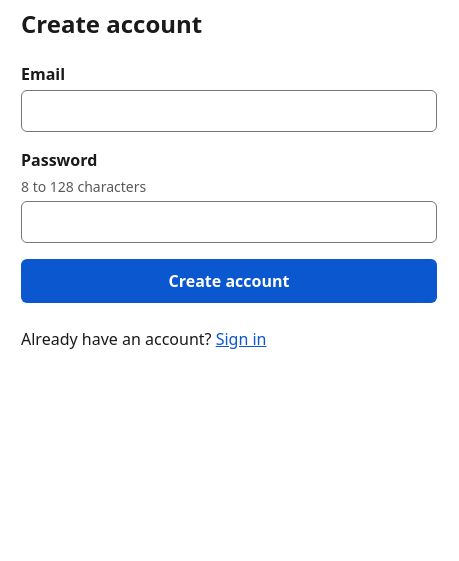
it: RegisterPage › failures › maps 422 field errors onto the inputs
The image size is (459, 561).
In the field labelled "Email": (229, 111) [21,90,437,132], type "a@example.com"
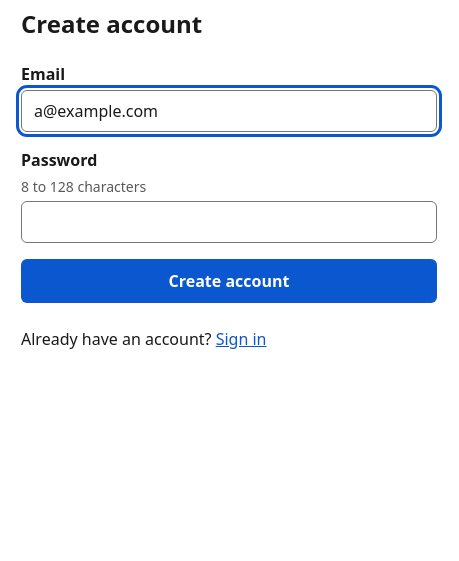
In the password field labelled "Password": (229, 222) [21,201,437,243], type "secret-pass"
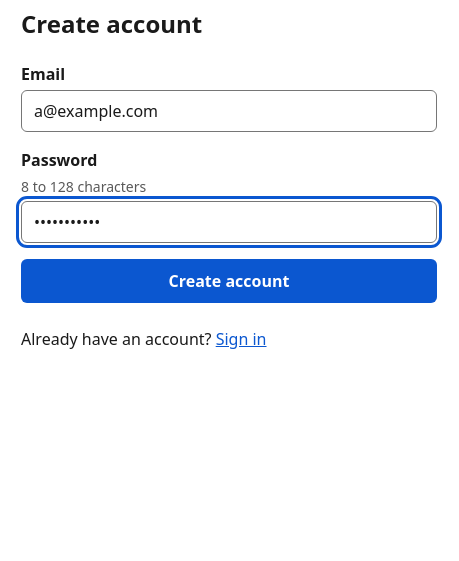
Click the button "Create account": (229, 281) [21,259,437,303]
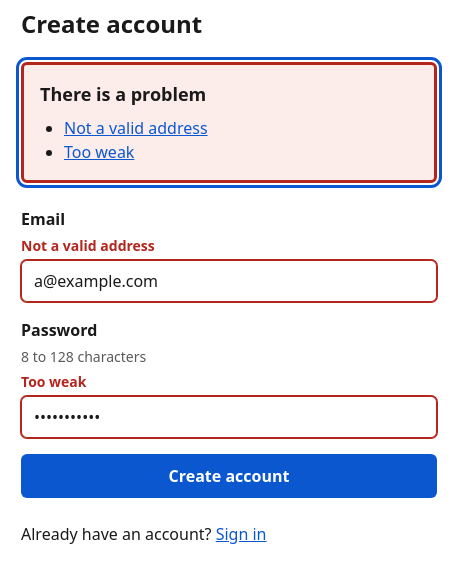
Result: the link "Not a valid address" is shown at [64,117,208,139]
Result: the link "Too weak" is shown at [64,141,134,163]
